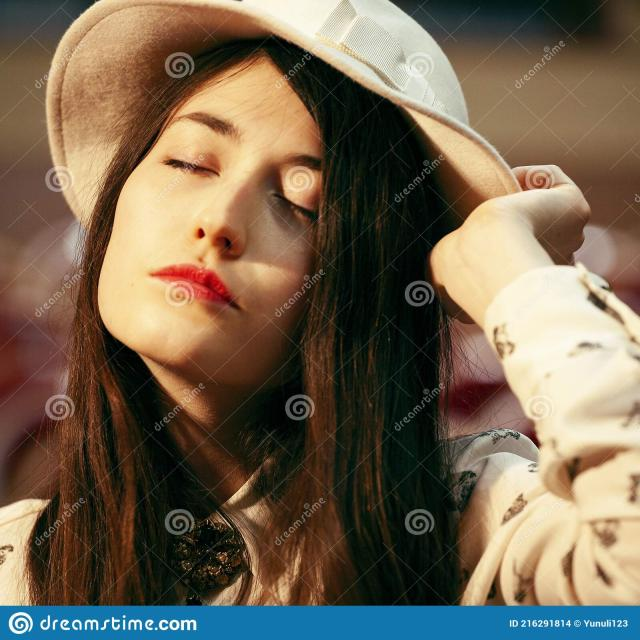hat: (44, 0, 537, 388)
